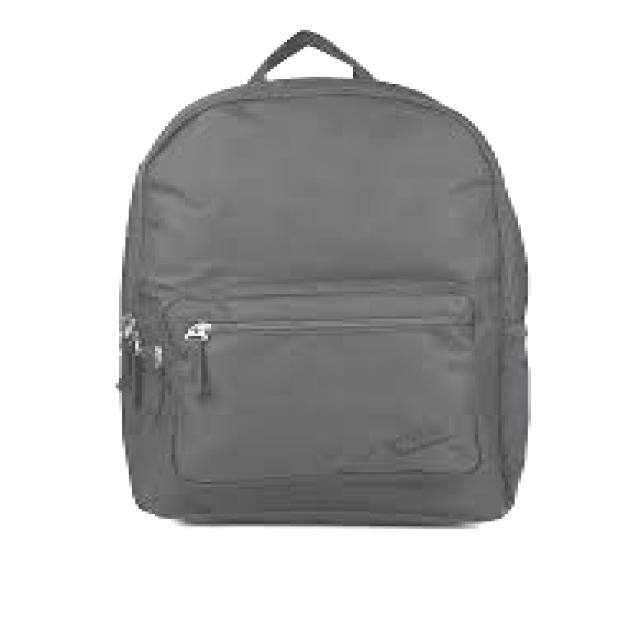backpack: (113, 29, 532, 528)
